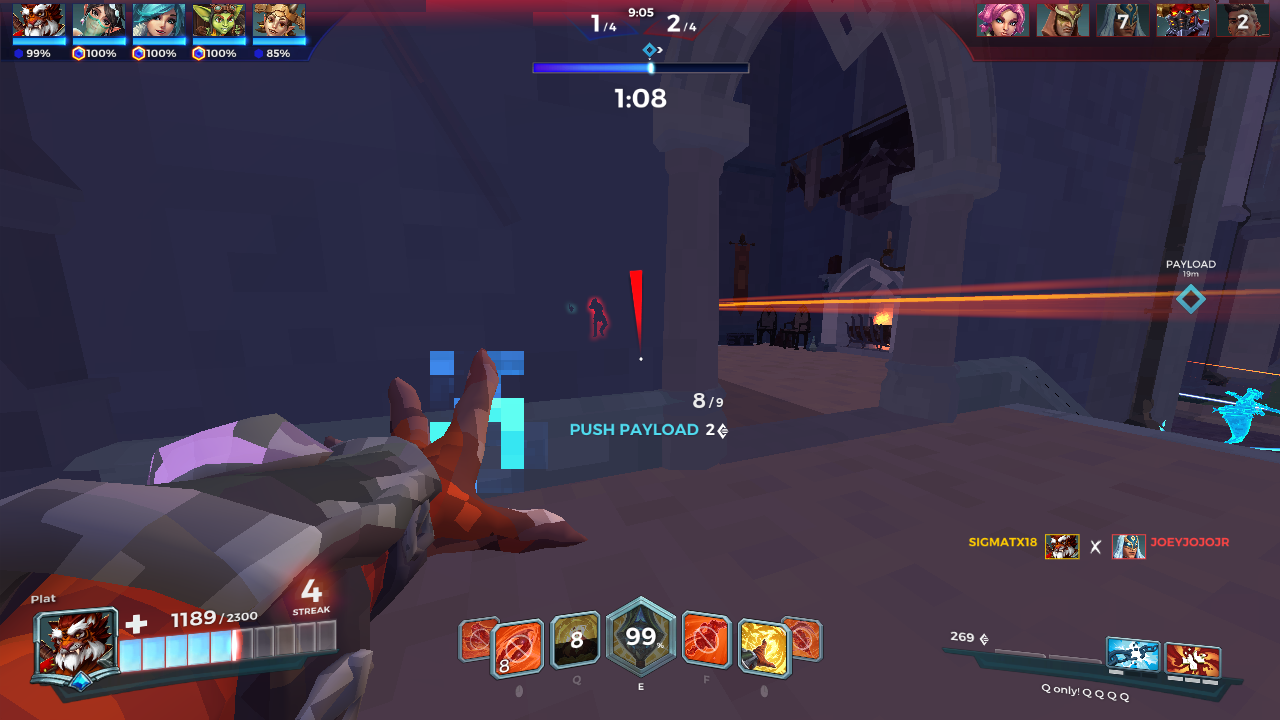model: (584, 293, 610, 340)
